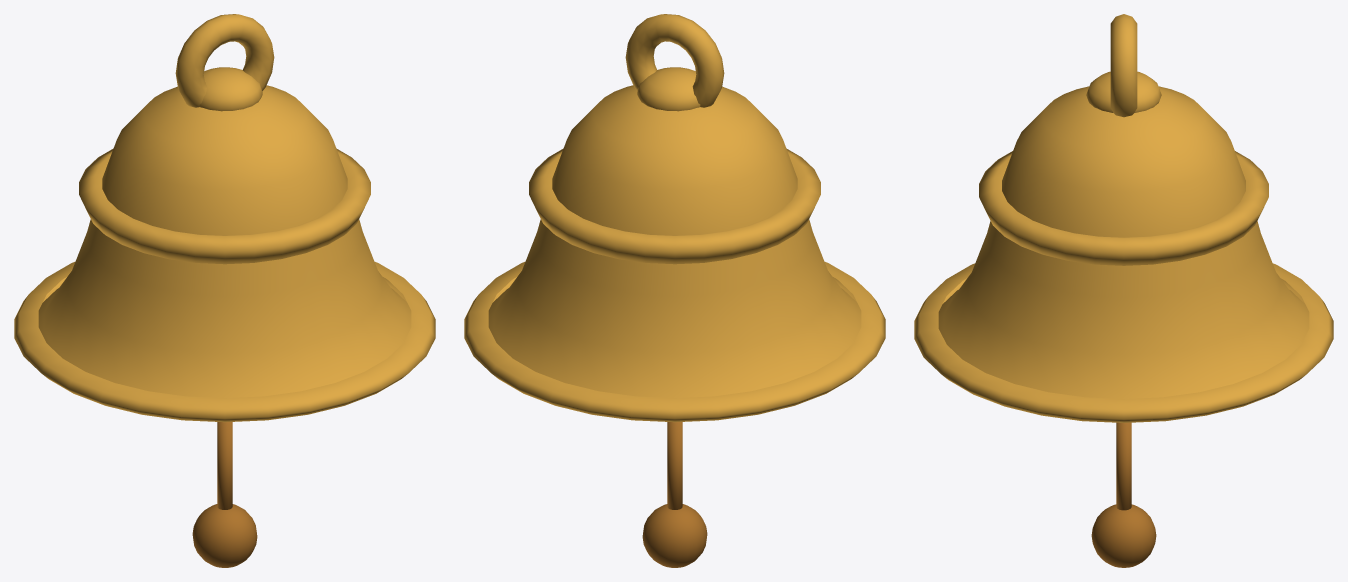
The model's file is win_bell.glb.
3 views of the same model, side by side, from view 1: azimuth 30°, elevation 25°; view 2: azimuth 150°, elevation 25°; view 3: azimuth 270°, elevation 25° (orthographic).
Parts seen in each view (by area): view 1: win_bell, clapper; view 2: win_bell, clapper; view 3: win_bell, clapper.
Part boxes in pixels (left/top/right/bottom): win_bell: left=14, top=14, right=435, bottom=422; clapper: left=192, top=422, right=257, bottom=567; win_bell: left=464, top=14, right=885, bottom=422; clapper: left=642, top=422, right=707, bottom=567; win_bell: left=914, top=14, right=1333, bottom=422; clapper: left=1091, top=422, right=1156, bottom=567.
Bounding box in the file's own units: 0.78 × 1.12 × 0.7757.
